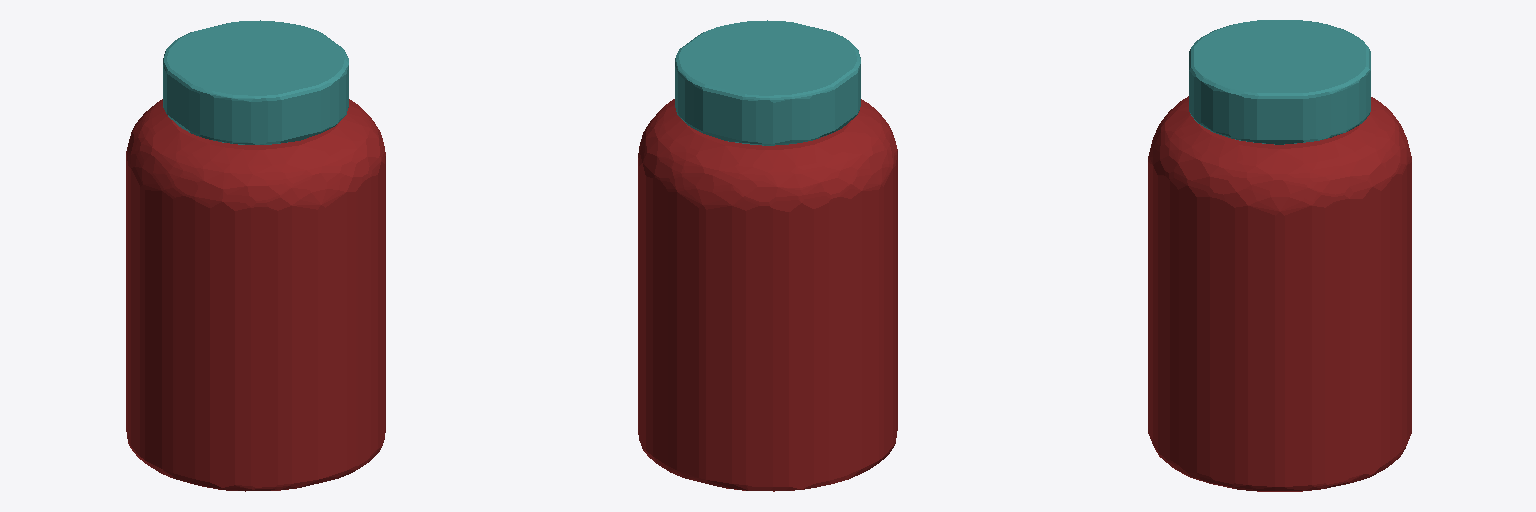
The robot description file, URDF, robot "root":
<robot name="root">
  <link name="bottle_body">
    <inertial>
      <origin xyz="0 0 0" rpy="0 0 0"/>
    </inertial>
    <mass value="1.00E-02"/>
    <visual>
      <origin xyz="0 0 0" rpy="0 0 0"/>
      <geometry>
        <mesh filename="core-bottle-2722bec1947151b86e22e2d2f64c8cef-coacd_convex_piece_1.obj" scale="1.0000E-01 1.0000E-01 1.0000E-01"/>
      </geometry>
      <material name="">
        <color rgba="6.00E-01 2.00E-01 2.00E-01 1"/>
      </material>
    </visual>
    <collision>
      <origin xyz="0 0 0" rpy="0 0 0"/>
      <geometry>
        <mesh filename="core-bottle-2722bec1947151b86e22e2d2f64c8cef-coacd_convex_piece_1.obj" scale="1.0000E-01 1.0000E-01 1.0000E-01"/>
      </geometry>
    </collision>
  </link>
  <link name="bottle_cap">
    <origin xyz="0 0 0.002" rpy="0 0 0"/>
    <mass value="1.00E-02"/>
    <visual>
      <origin xyz="0 0 0.002" rpy="0 0 0"/>
      <geometry>
        <mesh filename="core-bottle-2722bec1947151b86e22e2d2f64c8cef-coacd_convex_piece_0.obj" scale="1.0000E-01 1.0000E-01 1.0000E-01"/>
      </geometry>
      <material name="">
        <color rgba="3.00E-01 6.00E-01 6.00E-01 1"/>
      </material>
    </visual>
    <collision>
      <origin xyz="0 0 0.002" rpy="0 0 0"/>
      <geometry>
        <mesh filename="core-bottle-2722bec1947151b86e22e2d2f64c8cef-coacd_convex_piece_0.obj" scale="1.0000E-01 1.0000E-01 1.0000E-01"/>
      </geometry>
    </collision>
  </link>
  <joint name="bottle_cap_joint" type="revolute">
    <origin xyz="0 0 0" rpy="0 0 0"/>
    <parent link="bottle_body"/>
    <child link="bottle_cap"/>
    <axis xyz="0 0 1"/>
    <limit lower="0.00" upper="6.28"/>
    <dynamics damping="0.05"/>
  </joint>
</robot>

--- Render facts (derived) ---
The picture shows the robot from 3 angles, left to right: view 1: azimuth 30°, elevation 25°; view 2: azimuth 150°, elevation 25°; view 3: azimuth 270°, elevation 25°; orthographic projection.
Model root with 2 links and 1 joints (1 revolute), rooted at bottle_body, posed all joints at 0.
Visible links, largest first — view 1: bottle_body, bottle_cap; view 2: bottle_body, bottle_cap; view 3: bottle_body, bottle_cap.
Link boxes in pixels (x1,y1,x2,y2): bottle_body: (126,99,385,491); bottle_cap: (163,20,348,144); bottle_body: (638,99,897,491); bottle_cap: (675,20,860,145); bottle_body: (1148,96,1411,491); bottle_cap: (1189,20,1370,144).
Size in the robot's own frame: 0.1061 by 0.1061 by 0.1702 metres.
Meshes: 2 distinct files referenced, 2 mesh visuals loaded (2 OBJ).